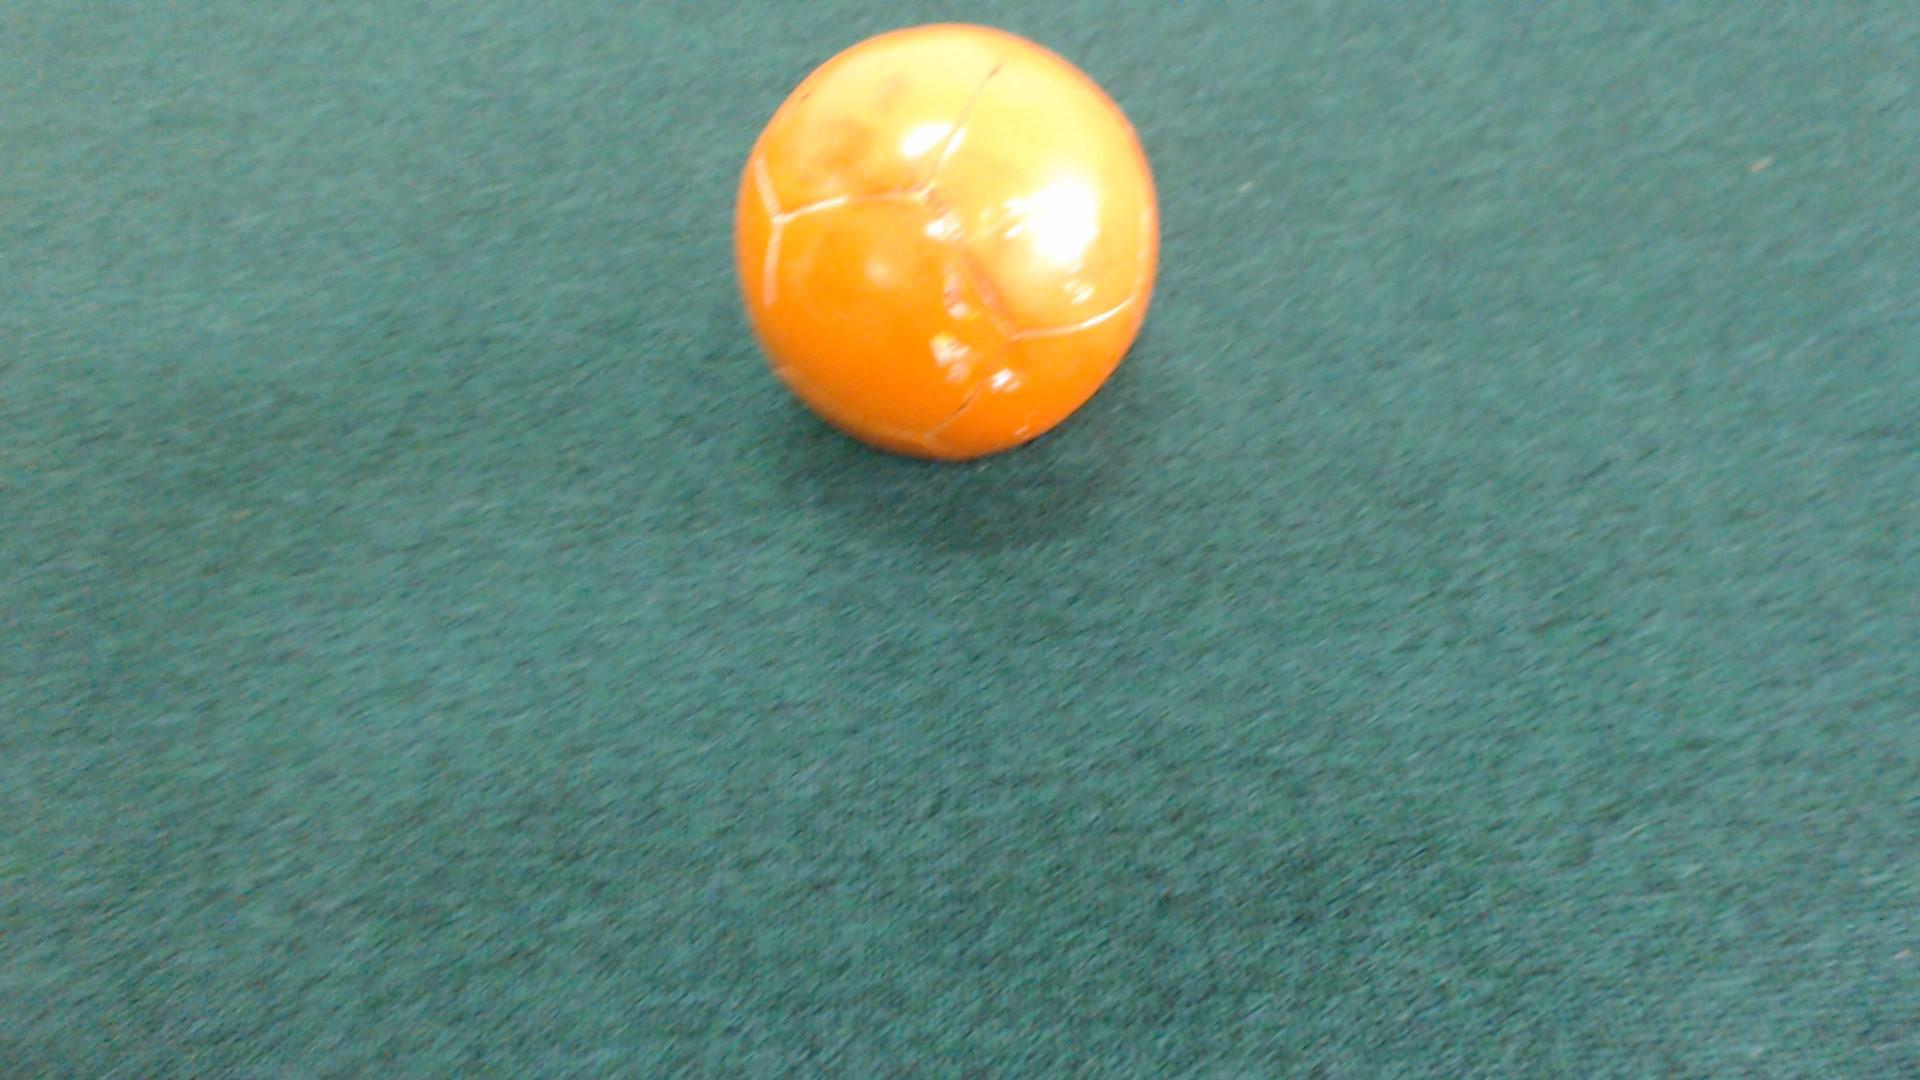bola: (683, 11, 1171, 517)
